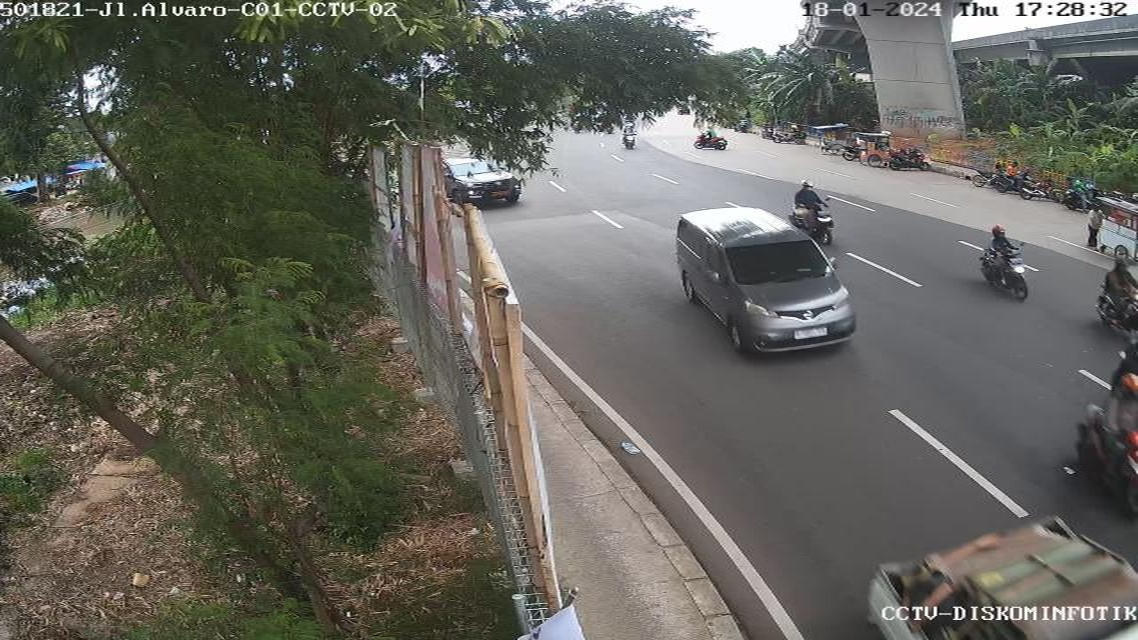Gerobak: (1085, 190, 1138, 266), (855, 129, 896, 168), (811, 125, 852, 159)
